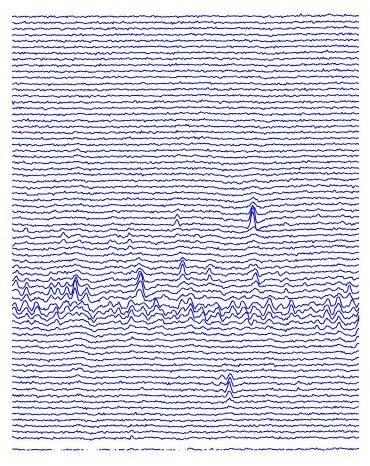defect: (11, 303, 305, 326), (322, 281, 359, 340), (9, 276, 67, 299), (66, 271, 88, 302), (221, 372, 240, 403), (250, 257, 264, 294), (200, 261, 216, 292), (131, 268, 148, 293), (169, 209, 183, 237), (121, 228, 135, 254), (248, 199, 258, 234), (57, 224, 68, 251), (175, 256, 189, 276)
